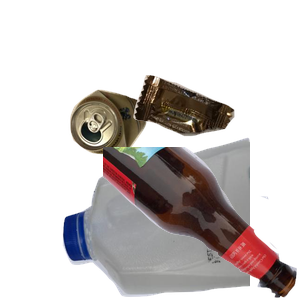glass: (103, 147, 300, 300)
metal: (67, 87, 206, 234)
plastic: (60, 135, 300, 300)
trash: (131, 73, 300, 202)
